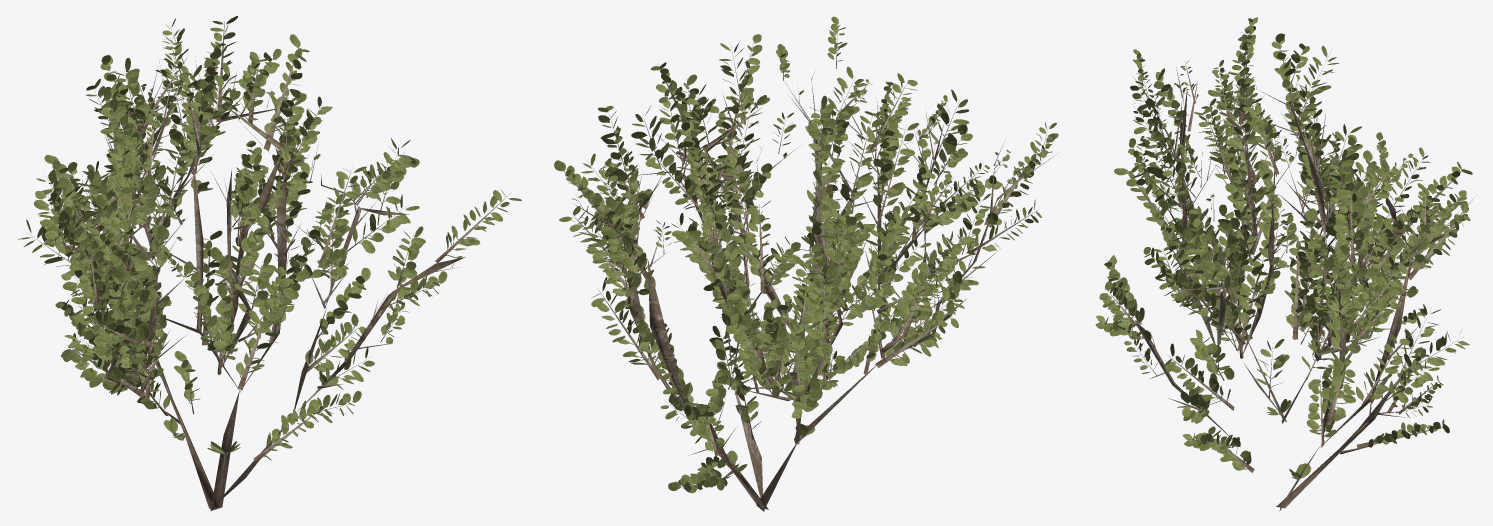
File: searsia_lucida_c.gltf
3 renders of one model, left to right at view 1: azimuth 30°, elevation 25°; view 2: azimuth 150°, elevation 25°; view 3: azimuth 270°, elevation 25°, orthographic. The views are drawn at different scales.
Parts seen in each view (by area): view 1: searsia_lucida_c__x; view 2: searsia_lucida_c__x; view 3: searsia_lucida_c__x.
Boxes of the visible parts, <box> form: searsia_lucida_c__x: <box>18,16,521,510</box>; searsia_lucida_c__x: <box>554,16,1058,511</box>; searsia_lucida_c__x: <box>1095,17,1474,511</box>.
Size of the model in its own units: 1.51 by 1.68 by 1.25.
2 materials, 2 textured.
